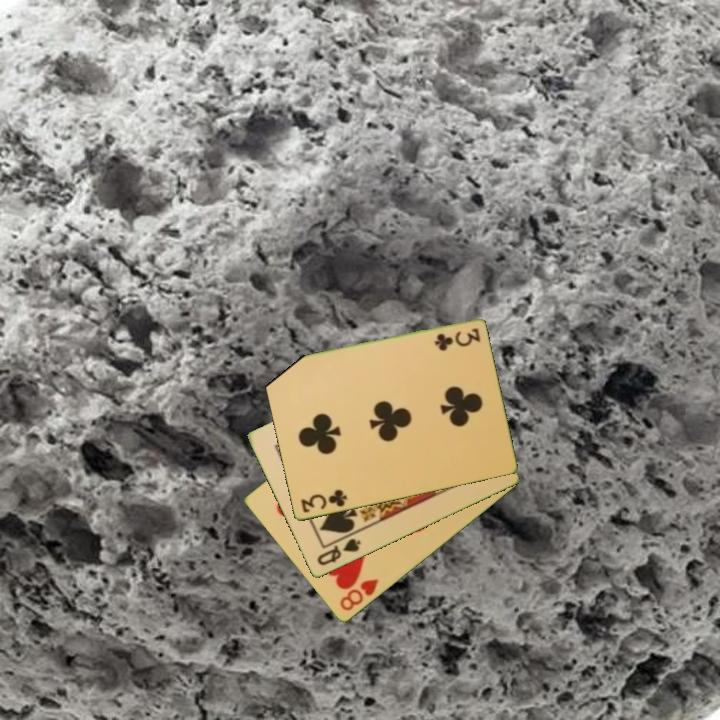3c: (297, 486, 350, 516), (431, 325, 483, 352)
8h: (336, 575, 381, 614)
Qs: (313, 535, 364, 569)
